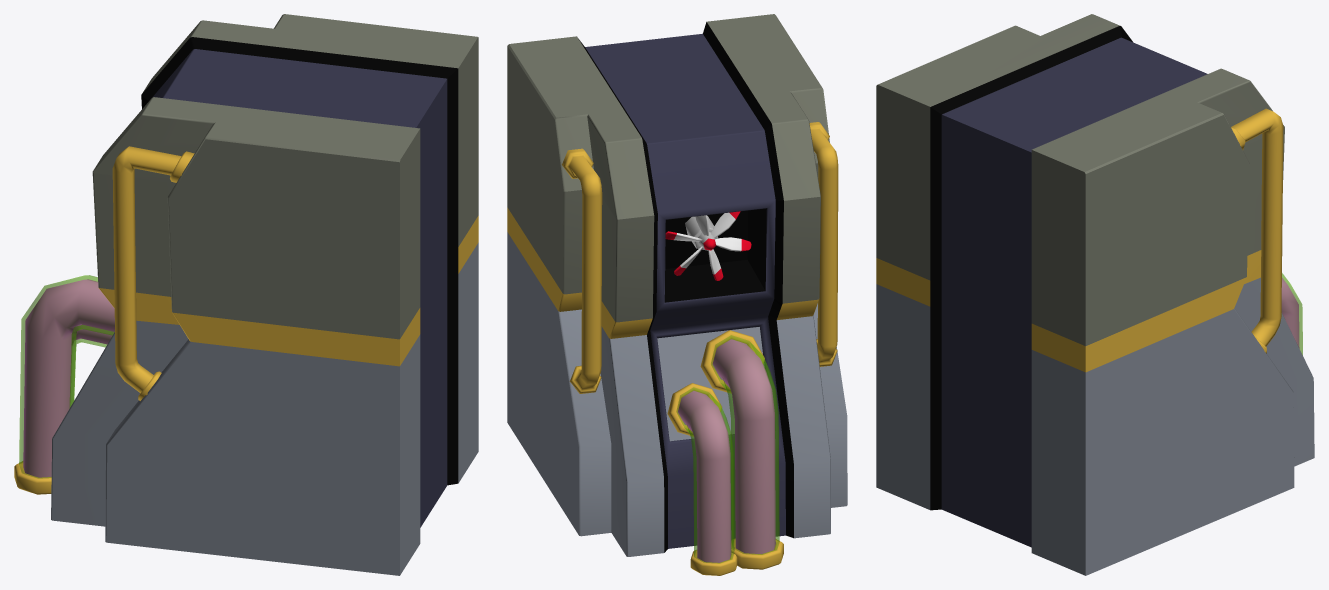
File: Wall_inmiddle1_L.fbx
3 views of the same model, side by side, from view 1: azimuth 30°, elevation 25°; view 2: azimuth 150°, elevation 25°; view 3: azimuth 270°, elevation 25° (orthographic). The views are drawn at different scales.
Visible parts, largest first — view 1: Wall_inmiddle1_L; view 2: Wall_inmiddle1_L; view 3: Wall_inmiddle1_L.
Boxes of the visible parts, <box> form: Wall_inmiddle1_L: <box>14,14,478,575</box>; Wall_inmiddle1_L: <box>507,14,847,575</box>; Wall_inmiddle1_L: <box>876,14,1314,575</box>.
Size of the model in its own units: 70.85 by 72.84 by 70.85.
